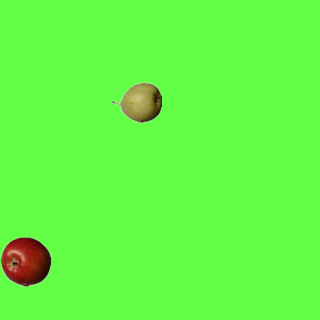Apple Braeburn: (0, 236, 50, 286)
Pear: (111, 77, 161, 127)
